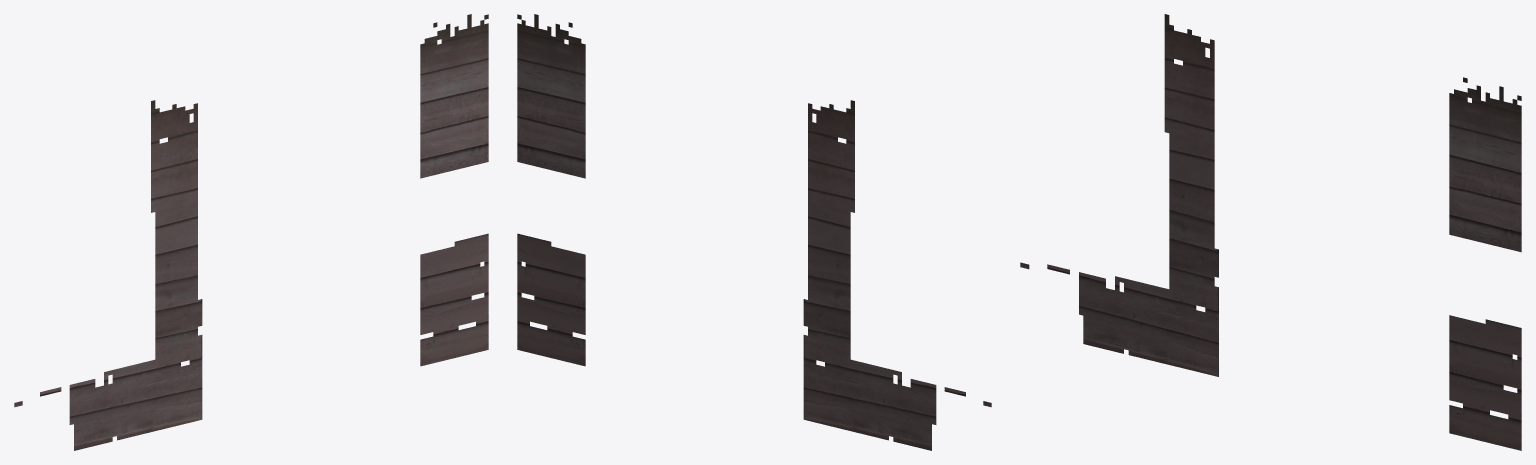
File: region.obj
The picture shows the model from 3 angles, left to right: view 1: azimuth 30°, elevation 25°; view 2: azimuth 150°, elevation 25°; view 3: azimuth 330°, elevation 25°; orthographic projection. The views are drawn at different scales.
Parts seen in each view (by area): view 1: owned_material_region; view 2: owned_material_region; view 3: owned_material_region.
Boxes of the visible parts, box(x1,y1,x2,y2) form: owned_material_region: box(14, 14, 488, 450); owned_material_region: box(517, 14, 991, 450); owned_material_region: box(1020, 14, 1521, 450).
Bounding box in the file's own units: 0.9867 × 0.6756 × 0.
Materials: 1 (1 with a texture image).
